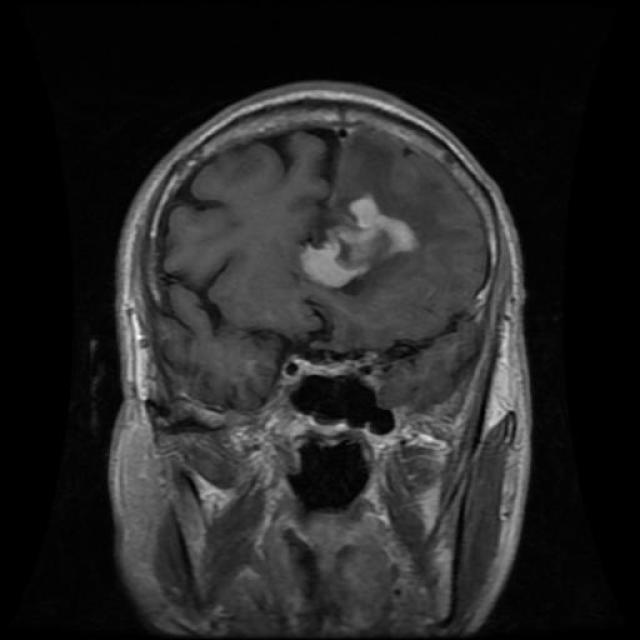glioma: (294, 196, 424, 292)
